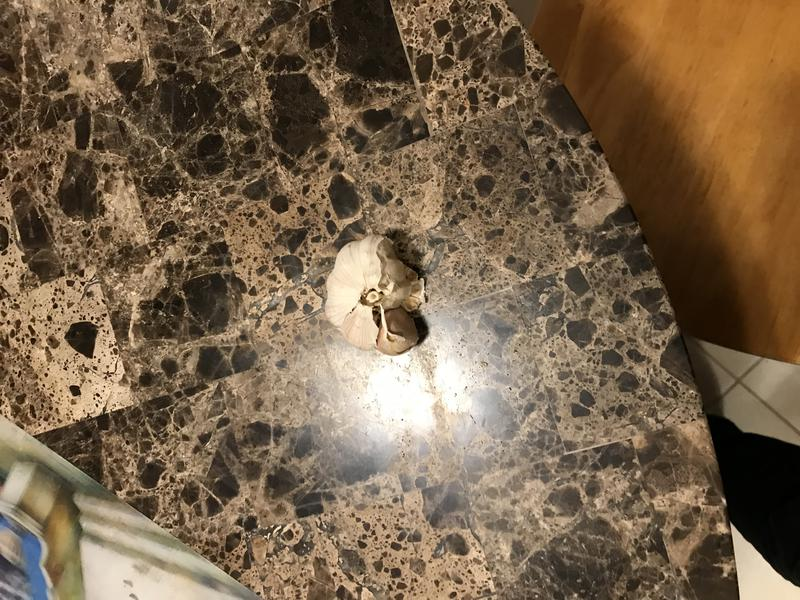garlic: (318, 229, 437, 361)
